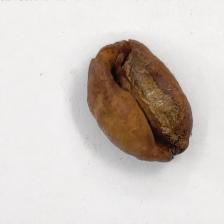NG: (111, 36, 185, 149)
